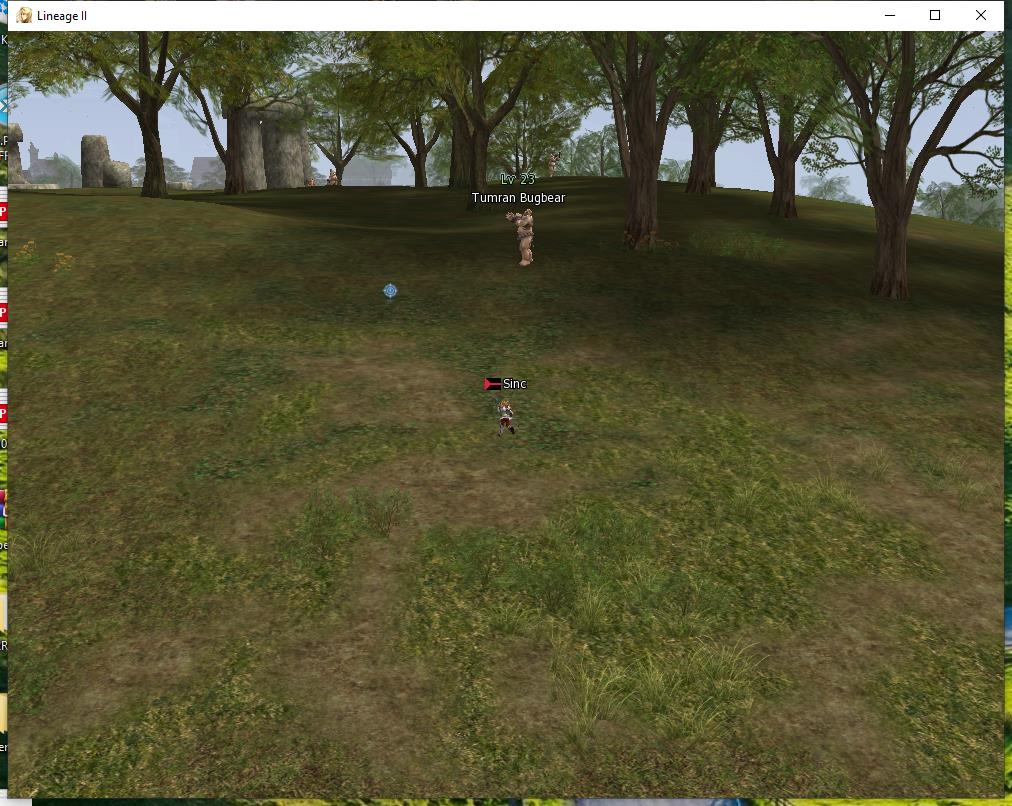monster: (460, 173, 575, 274), (544, 152, 562, 178)
